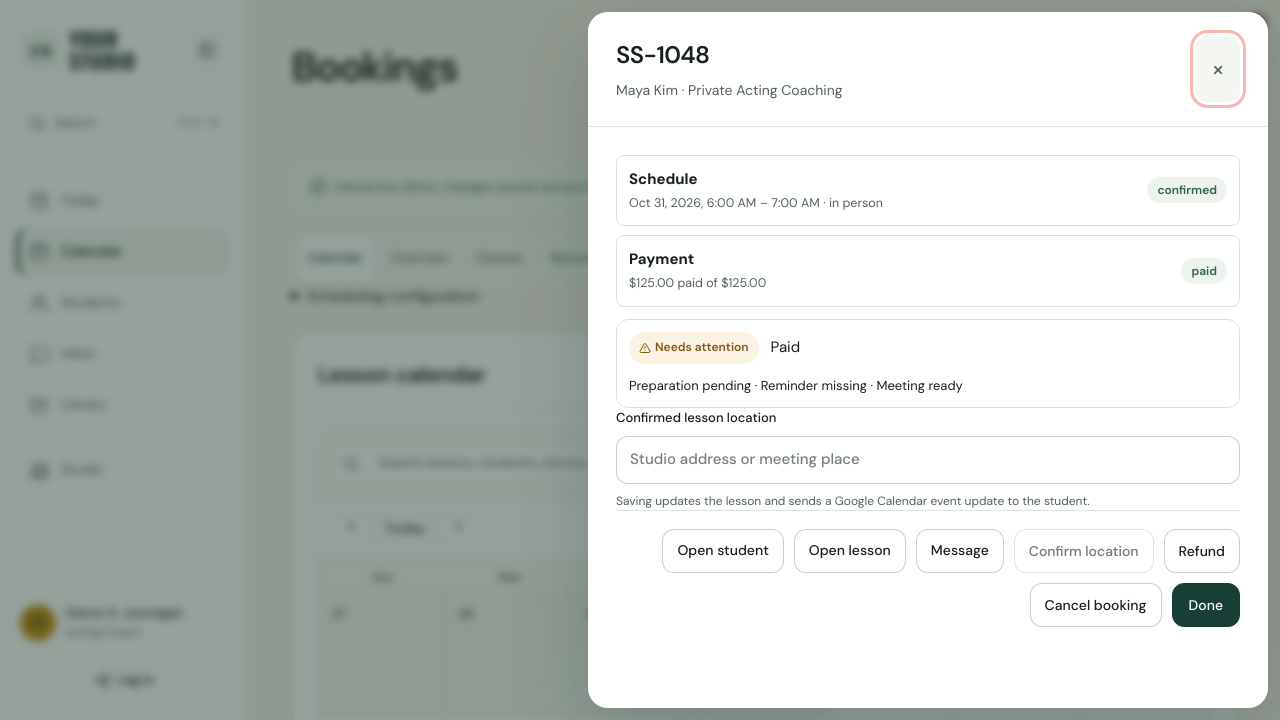
Test: calendar appointment details › dismisses booking=booking-maya when live query snapshots change identity on every render
What coordinates should you click on to do the following:
click the button "Done"
I would click on:
 (1206, 605)
Its box is [1172,583,1240,627].
(page scrolled)
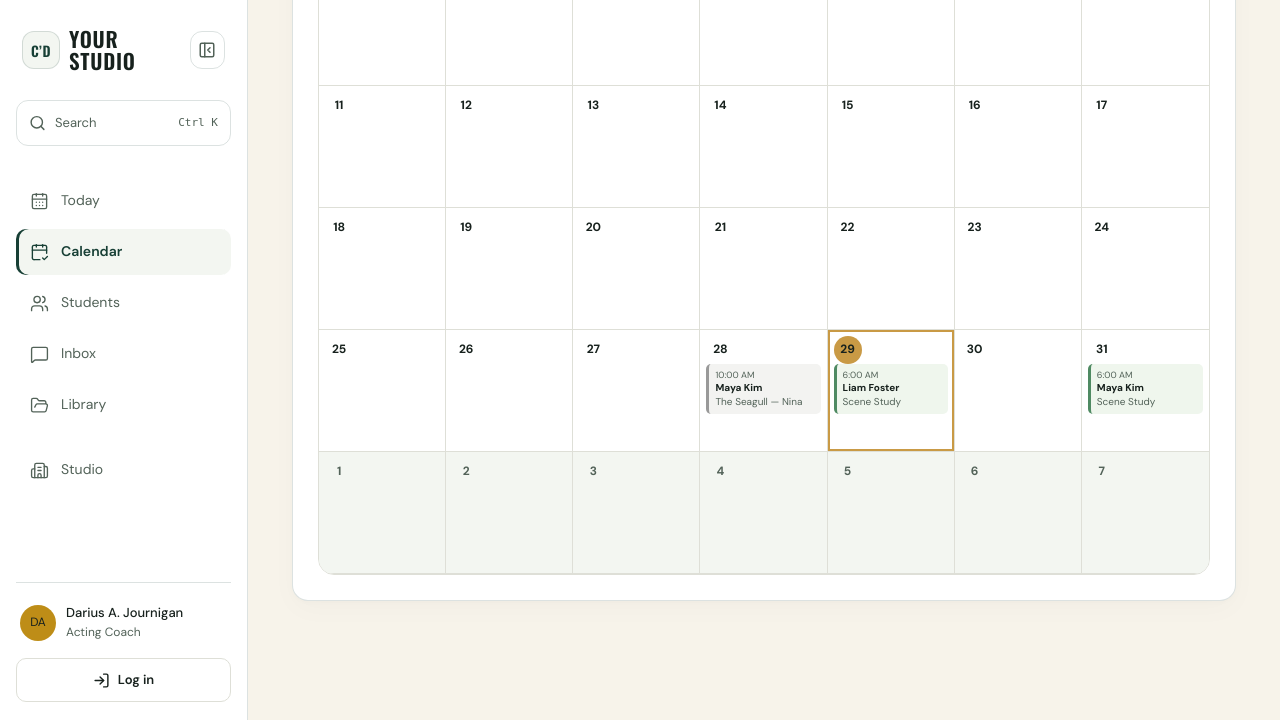
Now the dialog is gone
Now the text with test id "location" reads "/coach/bookings", box [0,698,116,718]
